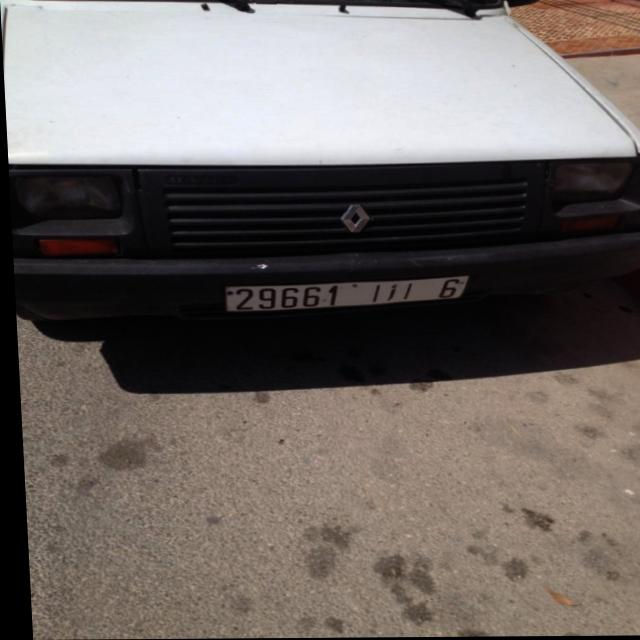License-Plate: (222, 276, 466, 313)
